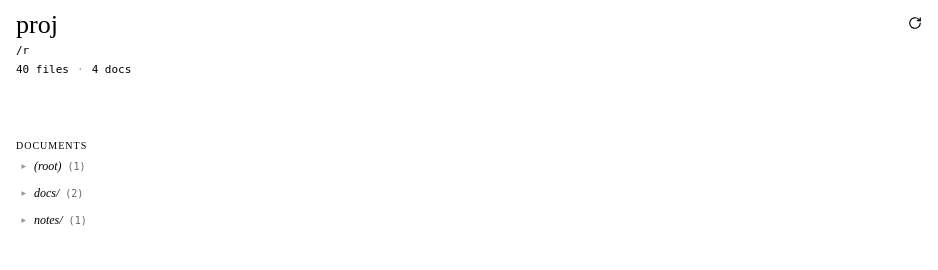
Test: Documents sub-folders › a folder with only direct files shows no sub-headers
Click the text "notes/" at x=53, y=220, box [20, 213, 87, 227]
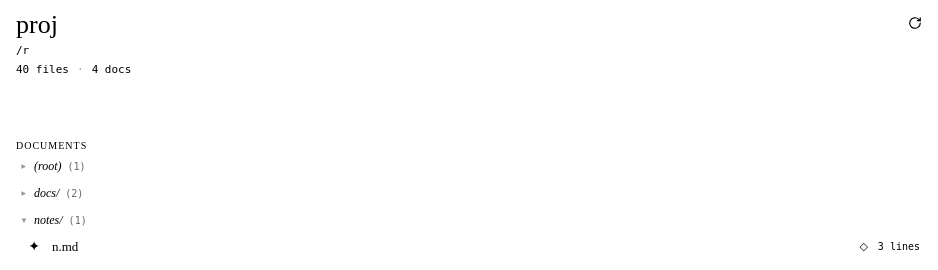
Expected: the text "n.md" is shown, [52, 238, 78, 254]
Expected: the elements "/" read "▼docs/(2)", "▼notes/(1)", in this order, [20, 186, 83, 200]; [20, 213, 87, 227]
